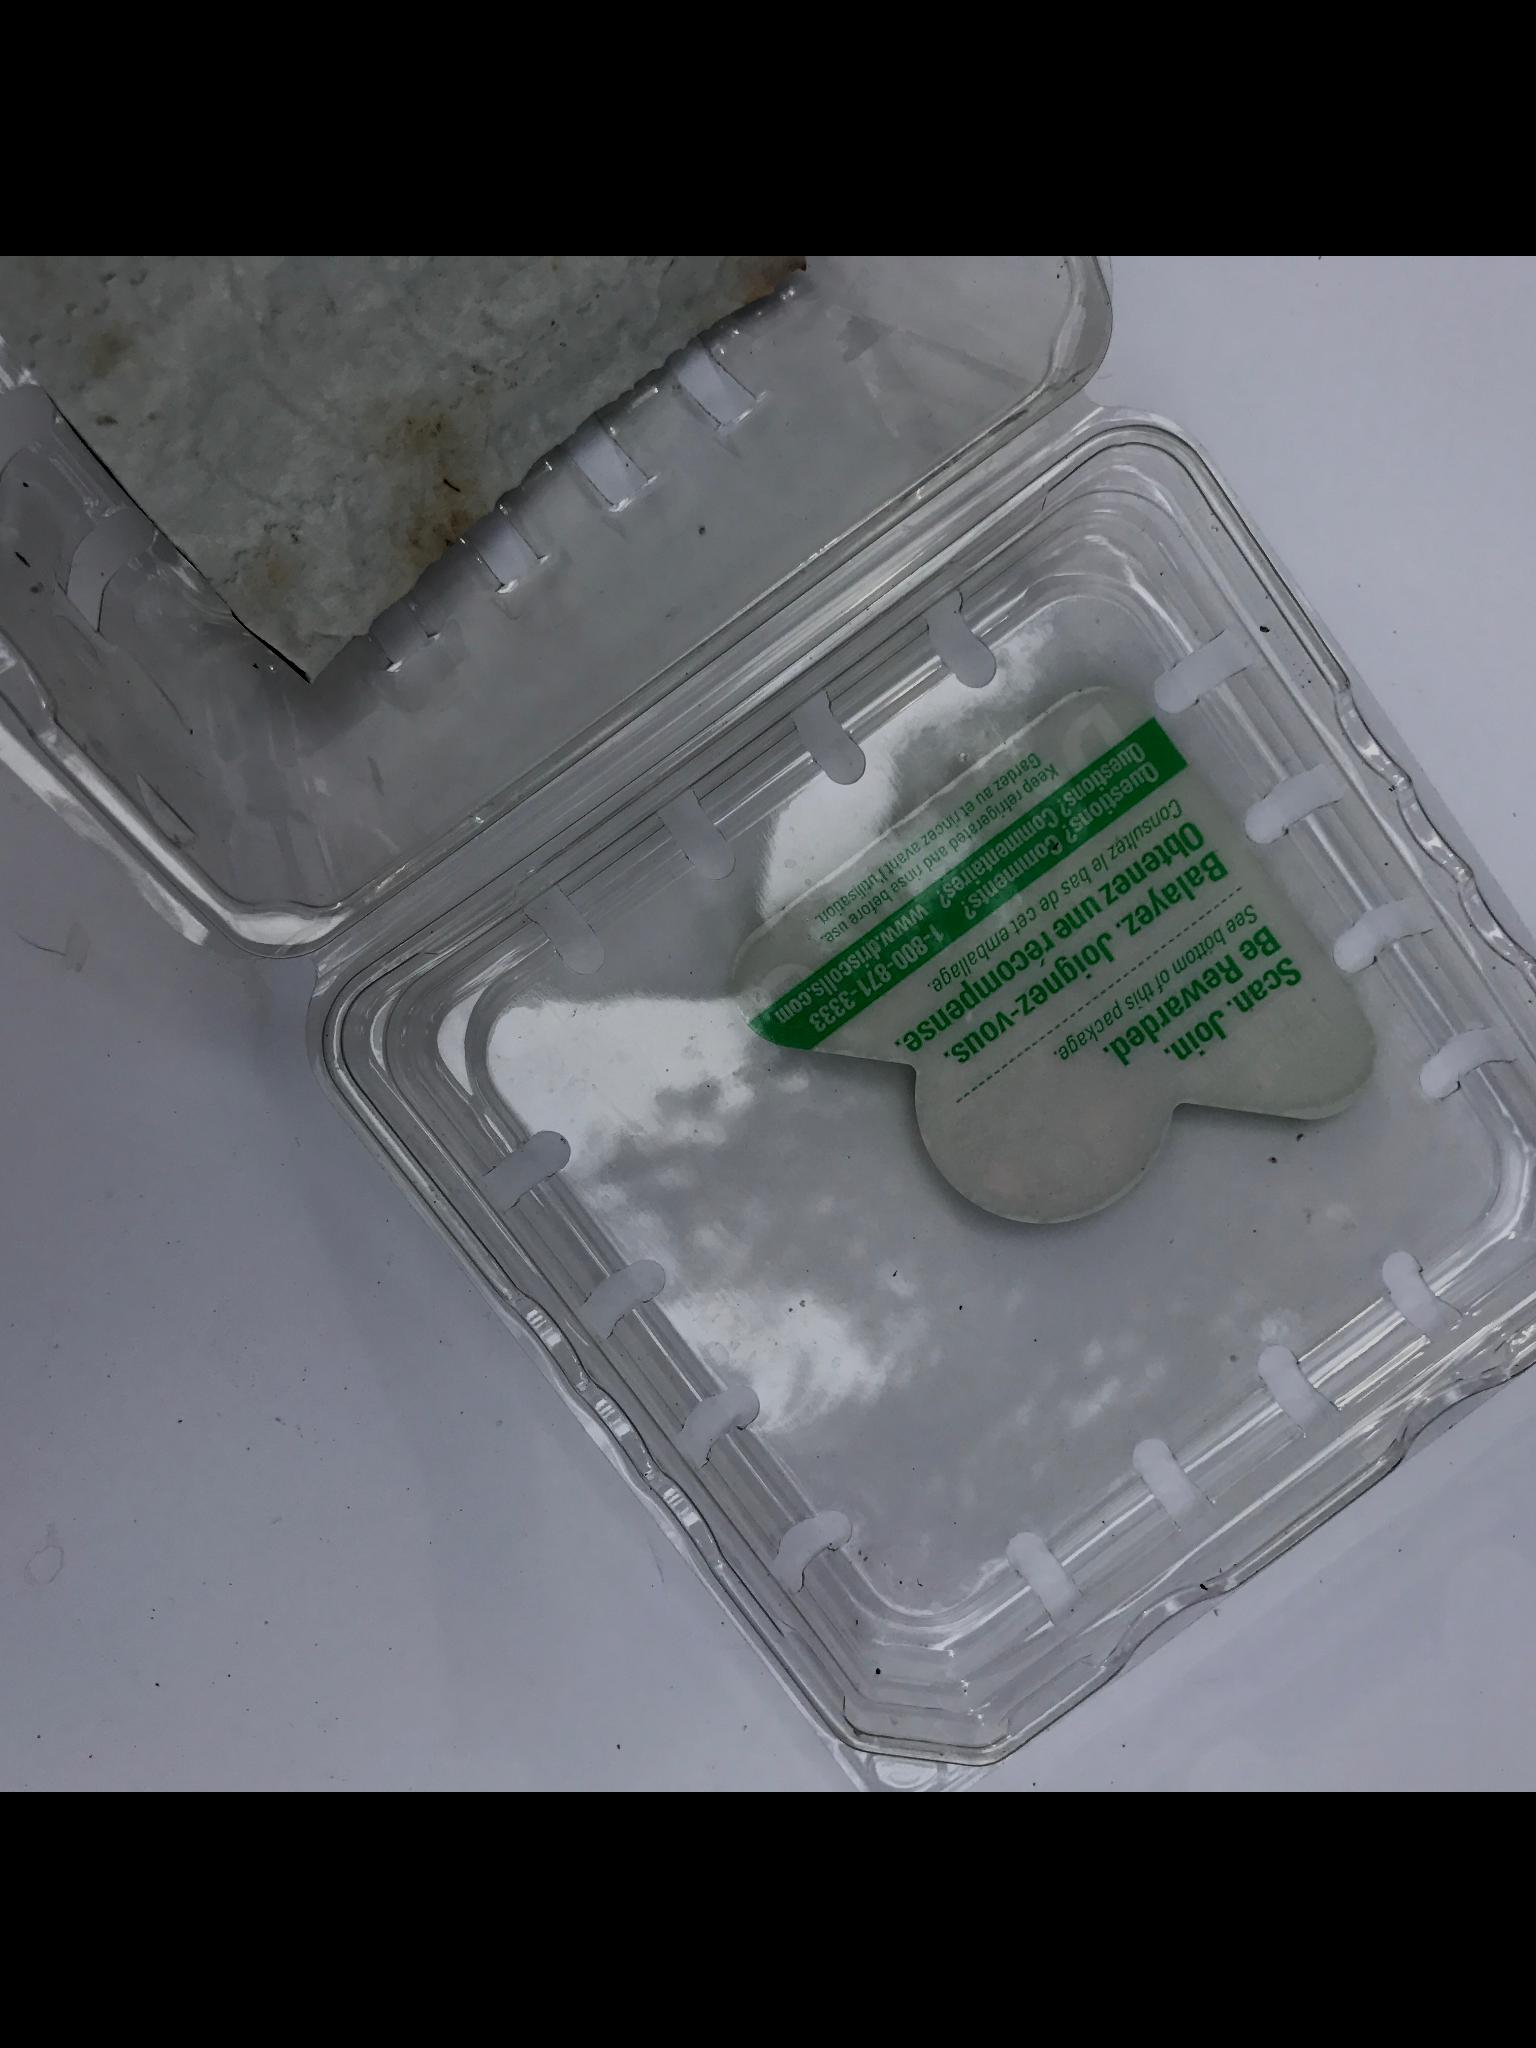Plastic: (0, 256, 1534, 1793)
